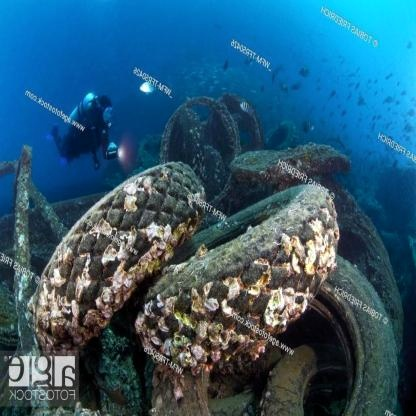tire: (146, 206, 345, 344), (49, 180, 203, 317), (323, 208, 400, 401), (152, 87, 248, 211)
